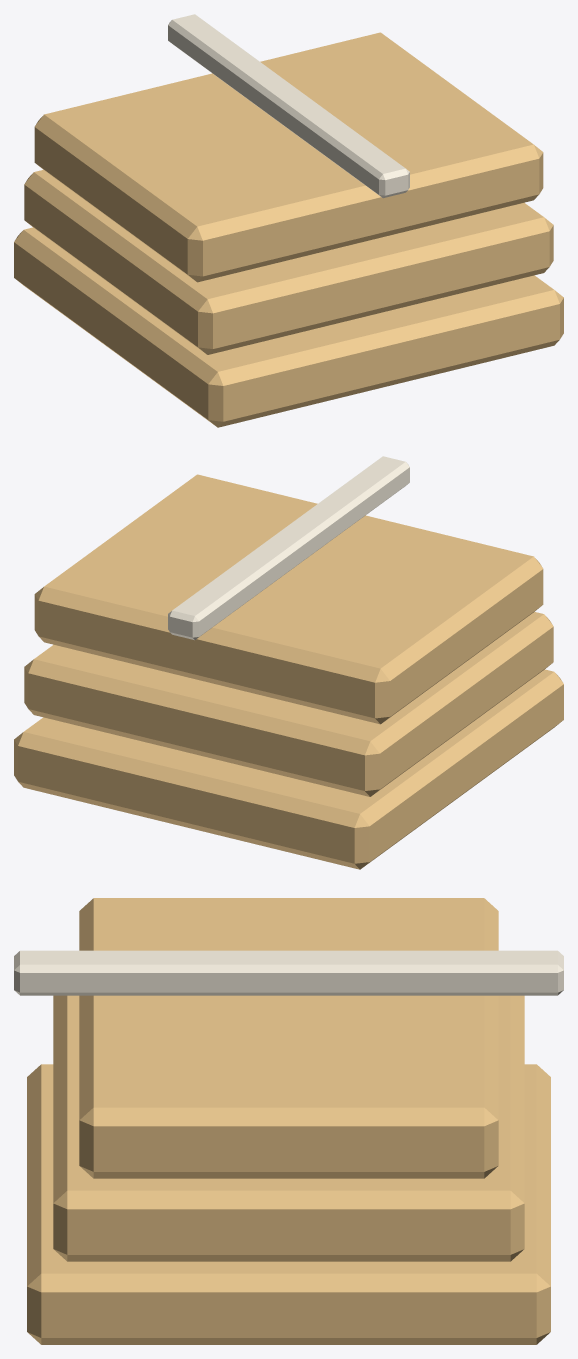
Rendered from cargo_hide.fbx.
The picture shows the model from 3 angles, top to bottom: view 1: azimuth 30°, elevation 25°; view 2: azimuth 150°, elevation 25°; view 3: azimuth 270°, elevation 25°; orthographic projection. The views are drawn at different scales.
Parts seen in each view (by area): view 1: cargo_hide_mesh; view 2: cargo_hide_mesh; view 3: cargo_hide_mesh.
Boxes of the visible parts, x1,y1,x2,y2 form: cargo_hide_mesh: [14, 14, 563, 427]; cargo_hide_mesh: [14, 456, 563, 869]; cargo_hide_mesh: [14, 898, 563, 1344].
Size of the model in its own units: 0.4 by 0.238 by 0.42.
